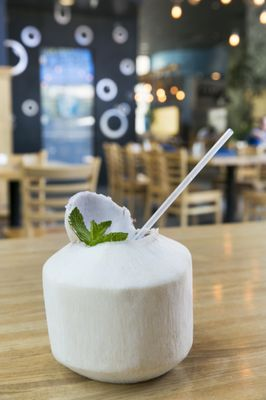pizza: (41, 231, 194, 384)
